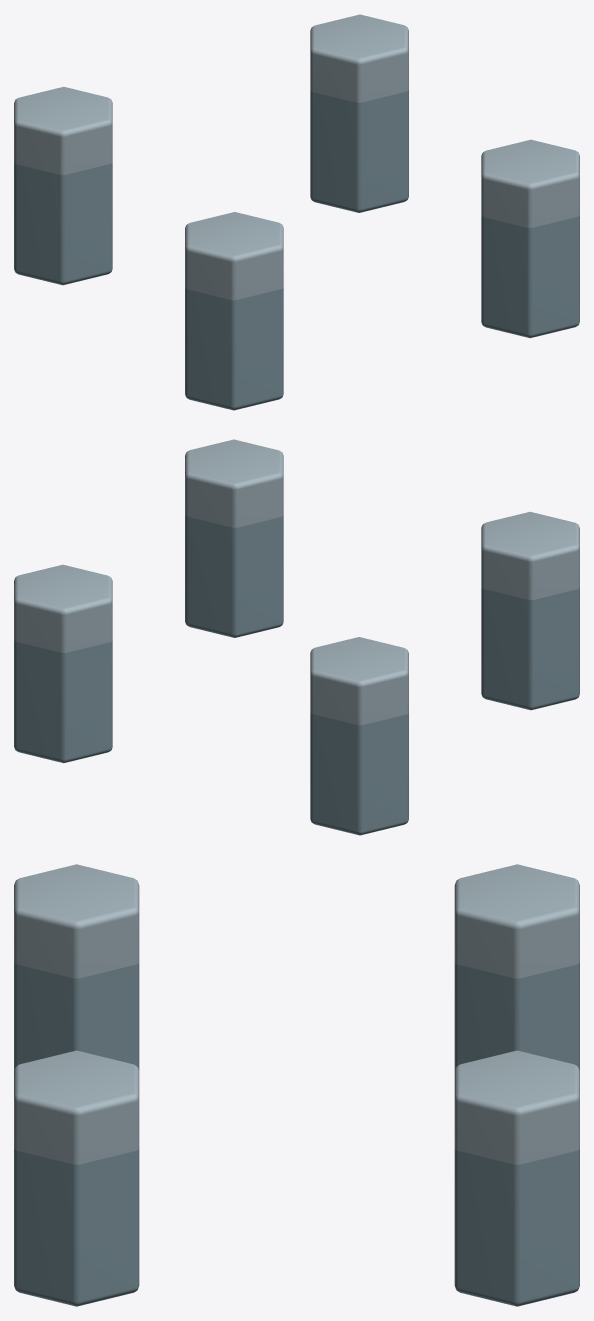
The model's file is Props.fbx.
The picture shows the model from 3 angles, top to bottom: view 1: azimuth 30°, elevation 25°; view 2: azimuth 150°, elevation 25°; view 3: azimuth 270°, elevation 25°; orthographic projection. The views are drawn at different scales.
Visible parts, largest first — view 1: 六面体 (×4); view 2: 六面体 (×4); view 3: 六面体 (×4).
Boxes of the visible parts, bbox=[...] form: 六面体 (×4): bbox=[14, 14, 579, 410]; 六面体 (×4): bbox=[14, 439, 579, 835]; 六面体 (×4): bbox=[14, 864, 579, 1306].
Size of the model in its own units: 13.28 by 5 by 12.85.
1 material, 1 textured.
